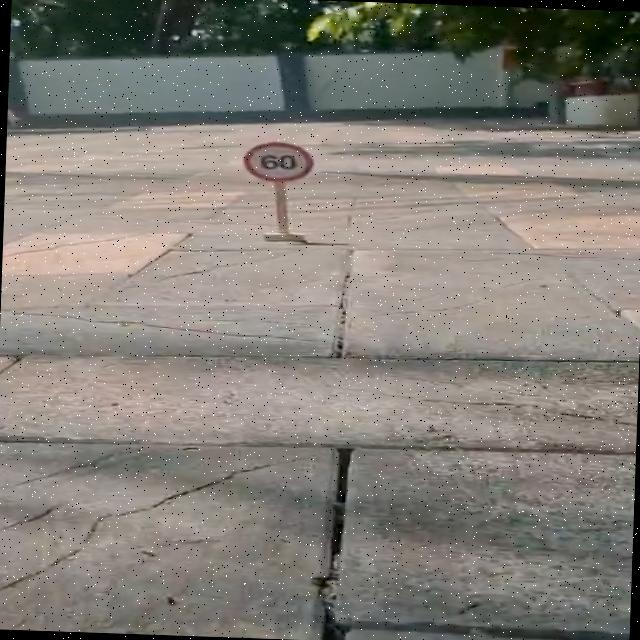Speed60: (238, 138, 320, 185)
